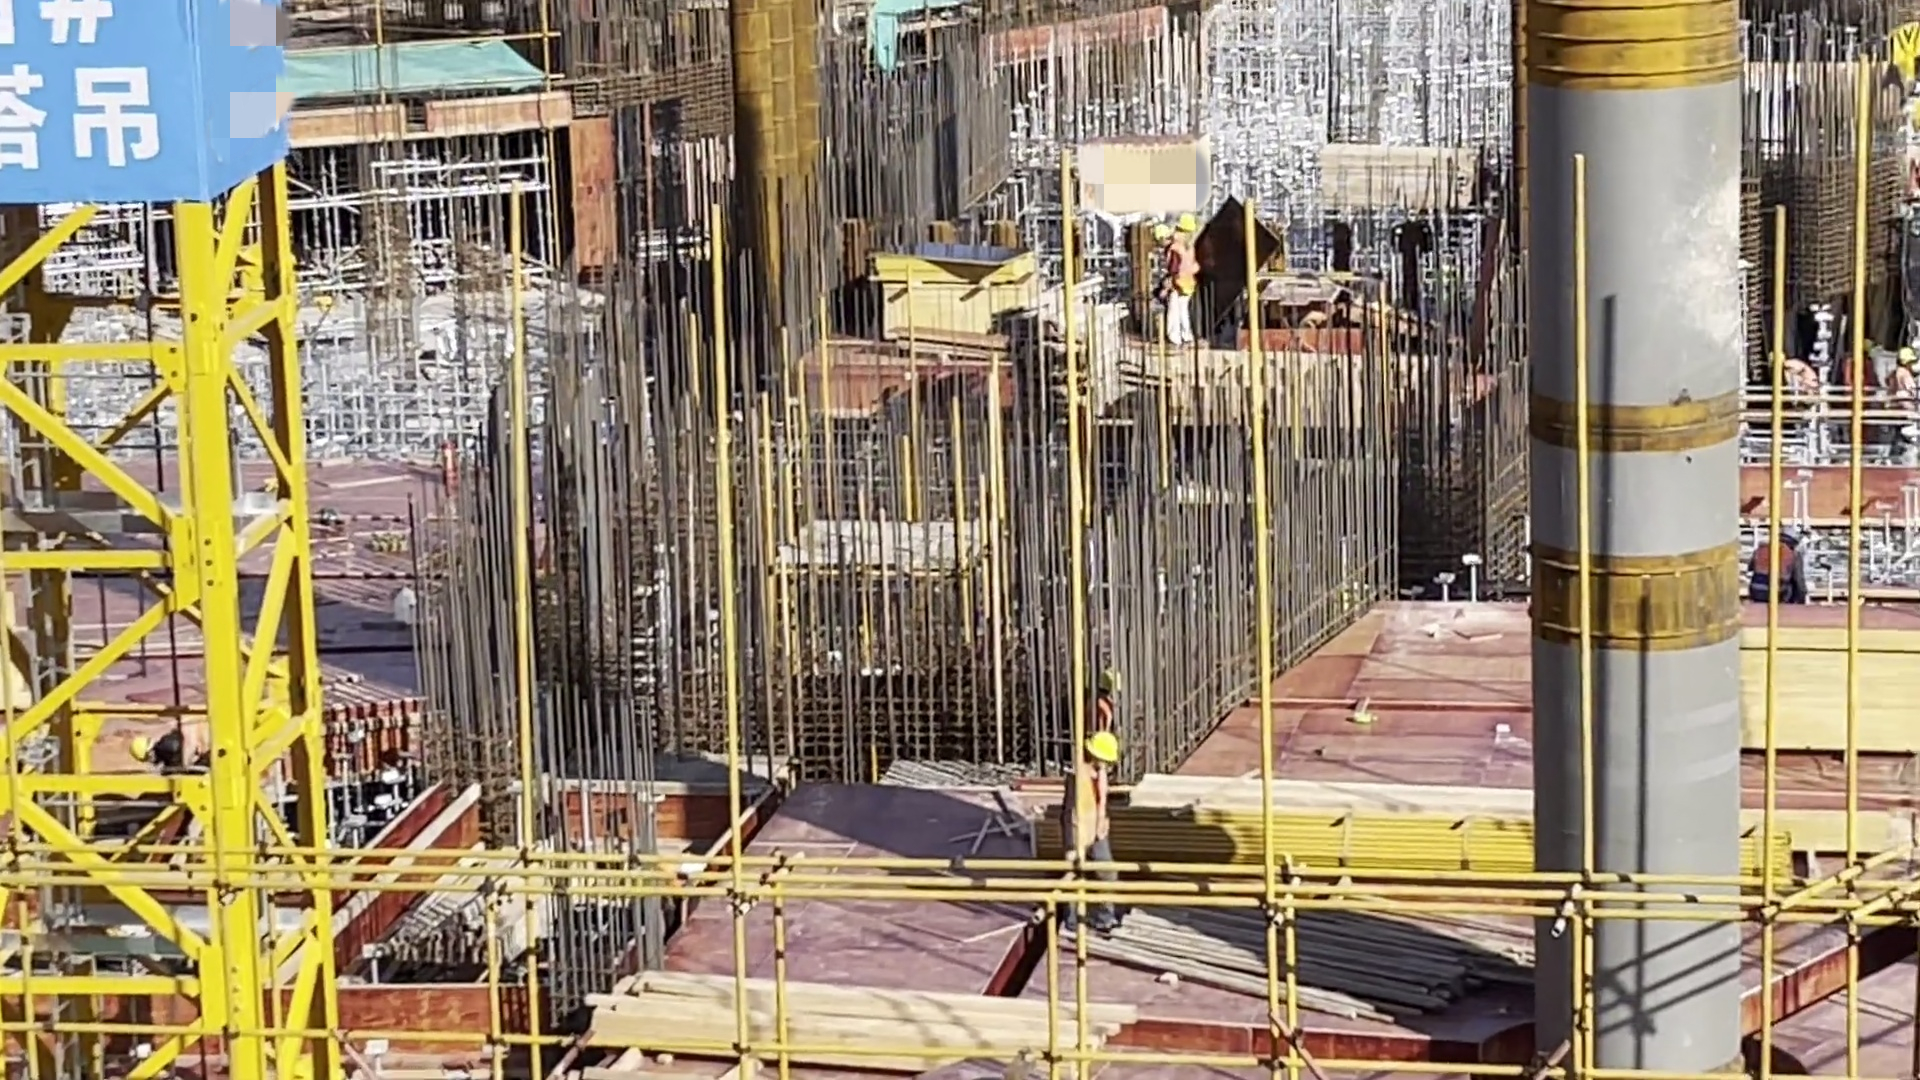helmet: (1085, 736, 1125, 762), (129, 721, 146, 764), (1180, 211, 1196, 239), (1777, 524, 1799, 543), (1104, 671, 1119, 695), (1158, 215, 1174, 239), (1865, 331, 1878, 358), (1898, 347, 1911, 373), (1770, 354, 1784, 363)
person: (124, 715, 241, 783), (1066, 733, 1111, 905), (1756, 515, 1803, 601), (1161, 223, 1189, 343), (1084, 668, 1136, 730), (1848, 327, 1873, 433), (1770, 347, 1814, 396), (1893, 343, 1909, 459), (1178, 211, 1208, 246)
vest: (161, 717, 224, 781), (1066, 766, 1109, 844), (1785, 353, 1827, 397), (1159, 249, 1199, 294), (1851, 359, 1879, 415), (1762, 550, 1792, 595), (1094, 694, 1128, 727), (1895, 365, 1907, 430)
